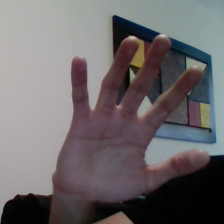left: (45, 20, 216, 213)
